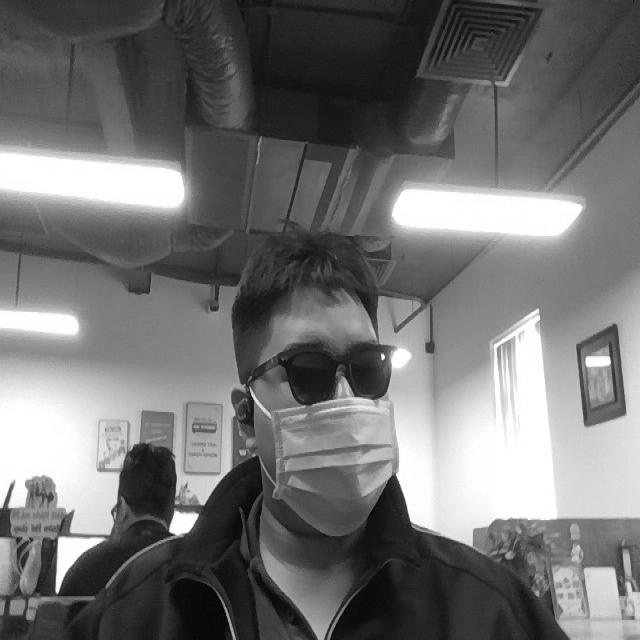fake: (268, 405, 399, 537), (249, 341, 397, 400)
